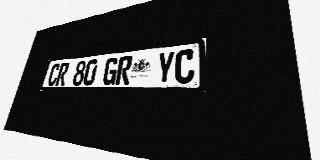0: (82, 59, 99, 85)
8: (72, 60, 87, 85)
C: (174, 49, 195, 84), (47, 63, 61, 86)
G: (102, 57, 119, 85)
R: (115, 55, 133, 85), (55, 62, 70, 86)
Y: (155, 51, 175, 84)
